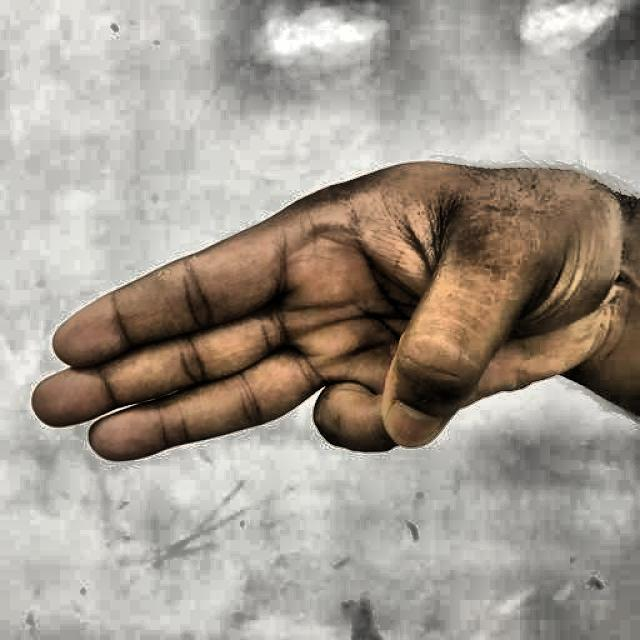Ma: (10, 146, 625, 499)
